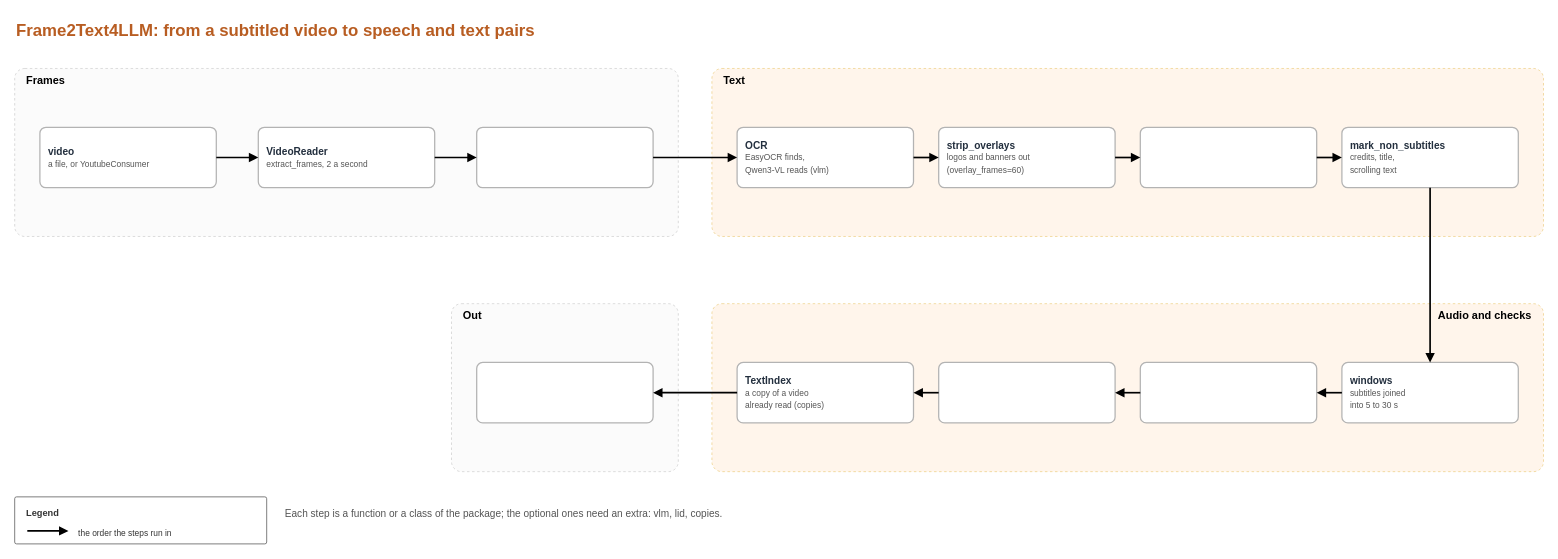
Image size: 1558x559. Some labels were removed from this diagram. Each missing label, with the centre of its shape:
"AudioGenerator one 16 kHz cut per window (ffmpeg)" belongs at [1228,392].
"LanguageID, written_in language spoken (lid), language written" belongs at [1026,392].
"merge_segments frames of one subtitle into one segment" belongs at [1228,157].
"speech and text pairs export: JSON, SRT, a Hugging Face dataset" belongs at [564,392].
"subtitle band OCRManager(region=...), found once when not given" belongs at [564,157].
